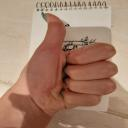ThumbsUp: (17, 12, 120, 117)
